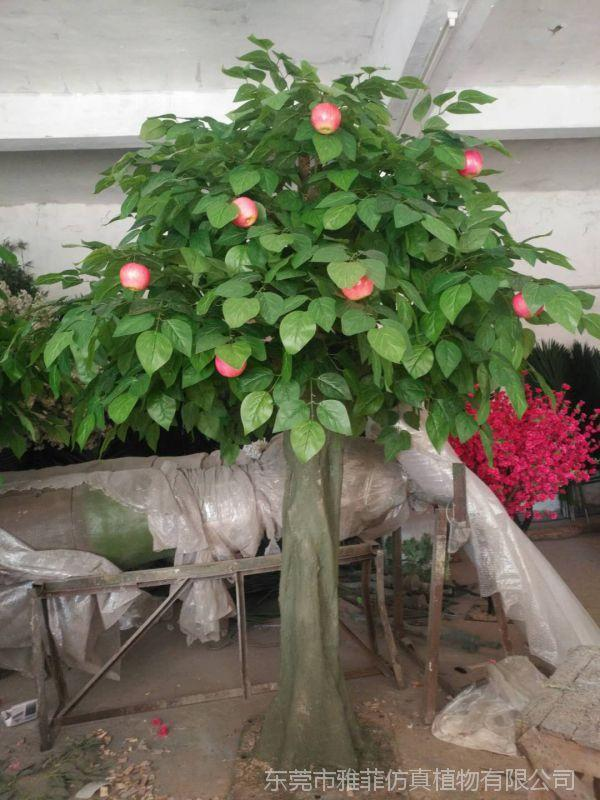apple: (309, 102, 341, 134), (118, 262, 150, 289), (229, 197, 257, 227), (343, 276, 374, 301), (513, 293, 543, 318), (215, 351, 245, 376), (459, 151, 480, 176)
